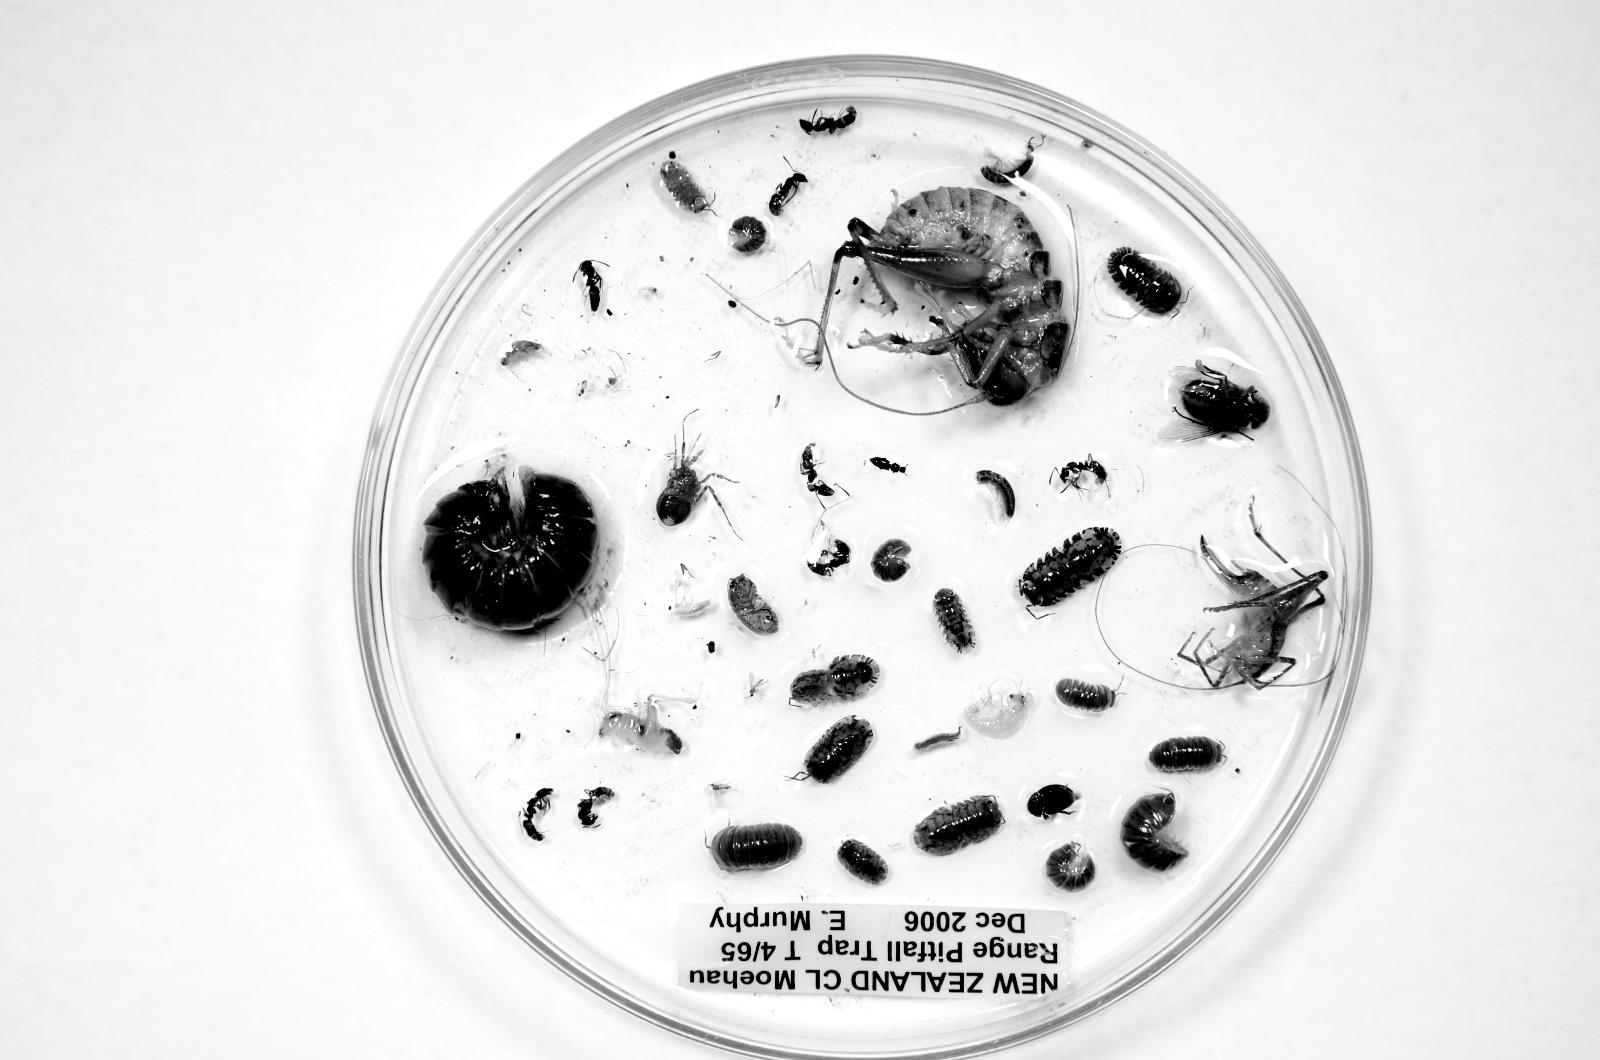amphipoda: (964, 685, 1032, 738)
coleoptera: (1026, 784, 1081, 819), (868, 457, 906, 474)
collembola: (671, 597, 712, 618)
diptera: (1159, 361, 1270, 441), (710, 782, 731, 809), (747, 673, 766, 697)
formicidae: (518, 788, 553, 841), (801, 444, 835, 498), (1058, 454, 1108, 491), (808, 535, 851, 576), (769, 172, 808, 216), (799, 105, 856, 135), (577, 786, 615, 827), (578, 260, 603, 311)
isopoda: (425, 467, 597, 629), (1018, 526, 1121, 607), (1121, 789, 1187, 871), (913, 795, 1003, 854), (1109, 247, 1181, 315), (708, 822, 802, 872), (790, 655, 879, 706), (805, 716, 873, 782), (660, 151, 712, 213), (728, 574, 779, 634), (1148, 735, 1224, 773), (933, 588, 976, 652), (980, 138, 1036, 185), (1045, 840, 1095, 891), (1055, 678, 1116, 715), (837, 839, 887, 884), (872, 539, 911, 582), (728, 215, 766, 253)
opiliones: (656, 440, 730, 526)
orthoptera: (808, 187, 1070, 413), (1178, 497, 1328, 690), (597, 697, 705, 754)
